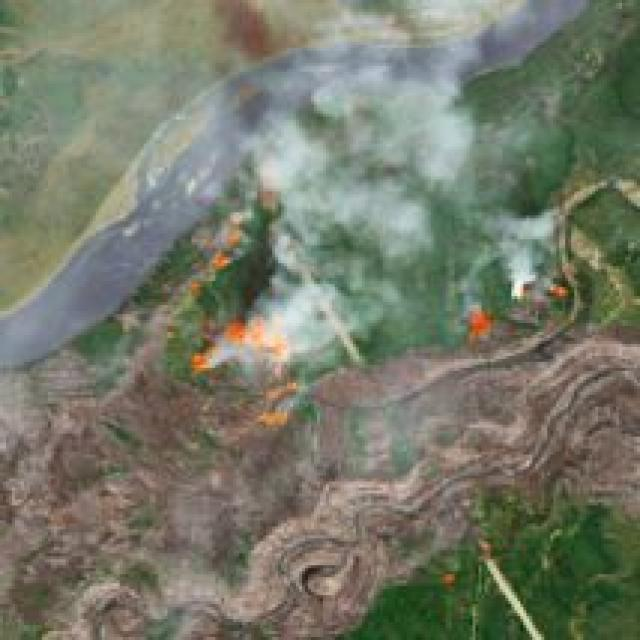Fire: (201, 199, 250, 282), (222, 317, 297, 357), (181, 346, 224, 395), (267, 385, 289, 442), (554, 271, 578, 318), (470, 306, 495, 342)
Smoke: (273, 74, 438, 281)
